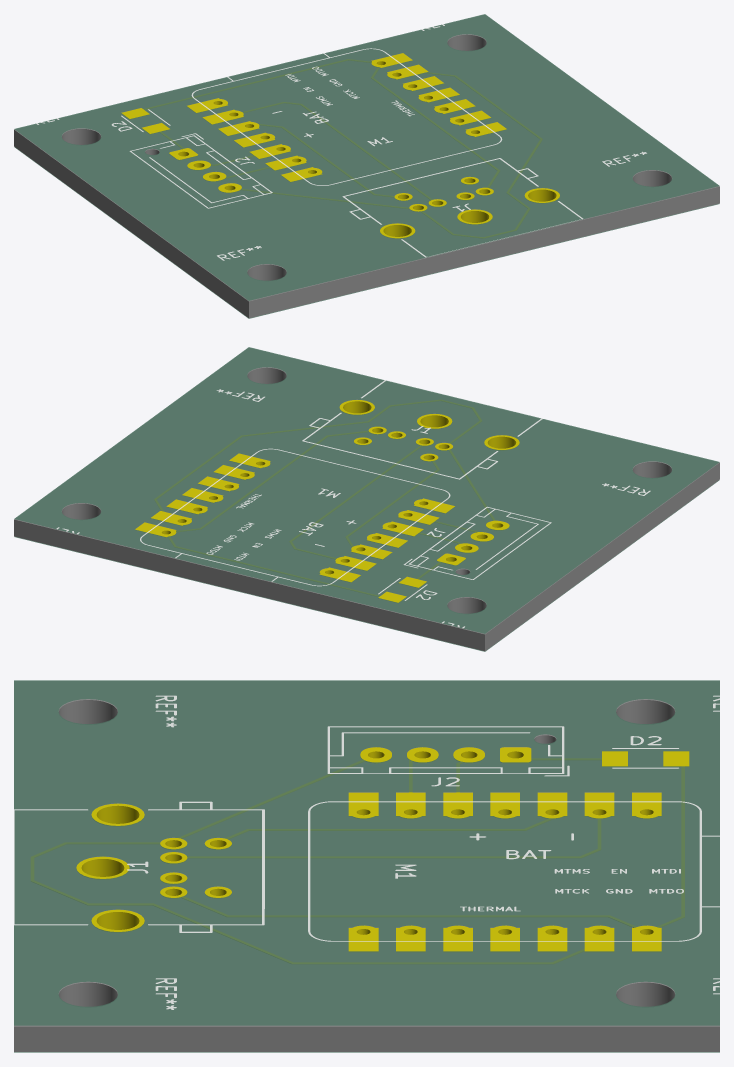
Rendered from ps2_xiao.glb.
3 views of the same model, one above another, from view 1: azimuth 30°, elevation 25°; view 2: azimuth 150°, elevation 25°; view 3: azimuth 270°, elevation 25° (orthographic). The views are drawn at different scales.
Visible parts, largest first — view 1: =>[0:1:1:6], =>[0:1:1:4], =>[0:1:1:2], =>[0:1:1:3], =>[0:1:1:5]; view 2: =>[0:1:1:6], =>[0:1:1:4], =>[0:1:1:2], =>[0:1:1:3], =>[0:1:1:5]; view 3: =>[0:1:1:6], =>[0:1:1:4], =>[0:1:1:2], =>[0:1:1:3], =>[0:1:1:5].
Part boxes in pixels (left/top/right/bottom): =>[0:1:1:6]: left=14, top=15, right=719, bottom=318; =>[0:1:1:4]: left=14, top=14, right=719, bottom=300; =>[0:1:1:2]: left=121, top=53, right=559, bottom=238; =>[0:1:1:3]: left=36, top=24, right=646, bottom=260; =>[0:1:1:5]: left=14, top=147, right=719, bottom=318; =>[0:1:1:6]: left=14, top=348, right=719, bottom=651; =>[0:1:1:4]: left=14, top=347, right=719, bottom=633; =>[0:1:1:2]: left=135, top=400, right=519, bottom=602; =>[0:1:1:3]: left=56, top=380, right=650, bottom=628; =>[0:1:1:5]: left=14, top=480, right=719, bottom=651; =>[0:1:1:6]: left=14, top=681, right=719, bottom=1051; =>[0:1:1:4]: left=14, top=680, right=719, bottom=1025; =>[0:1:1:2]: left=31, top=747, right=689, bottom=963; =>[0:1:1:3]: left=14, top=695, right=719, bottom=1009; =>[0:1:1:5]: left=14, top=1052, right=719, bottom=1052.
Size of the model in its own units: 0.044 by 0.00163 by 0.038.
